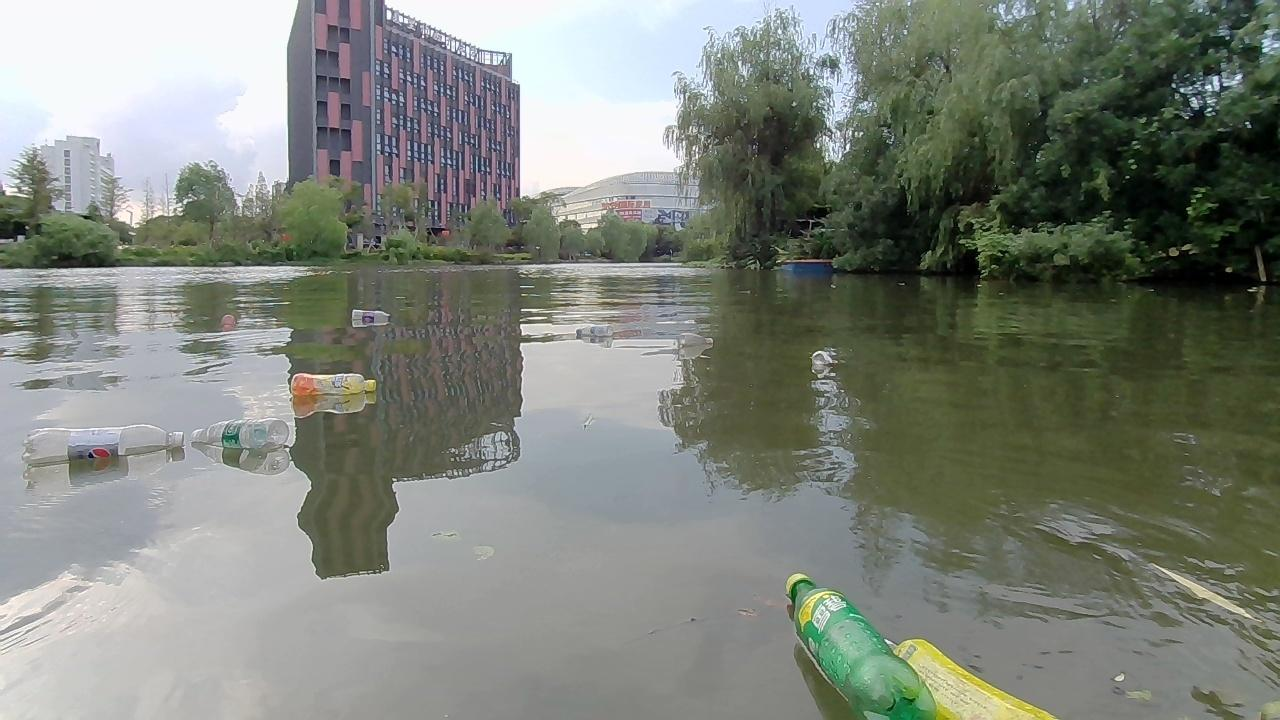bottle: (781, 572, 932, 719), (881, 633, 1074, 719), (22, 422, 186, 471), (290, 368, 380, 404), (191, 420, 289, 448), (346, 303, 400, 329), (571, 319, 611, 343), (217, 313, 237, 331)
